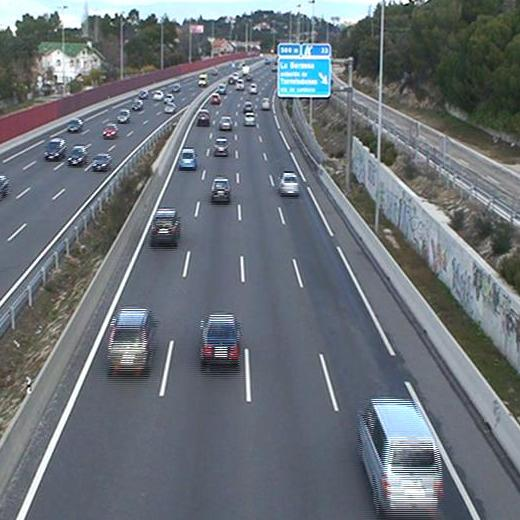car: (105, 308, 156, 372), (201, 313, 242, 365), (150, 209, 183, 245), (276, 171, 300, 195), (210, 177, 231, 202), (179, 148, 197, 168), (213, 138, 230, 155), (218, 114, 232, 129), (197, 109, 210, 124), (242, 111, 256, 124)
van: (358, 401, 442, 513)
